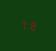eight: (27, 19, 34, 31)
seven: (19, 19, 26, 30)
